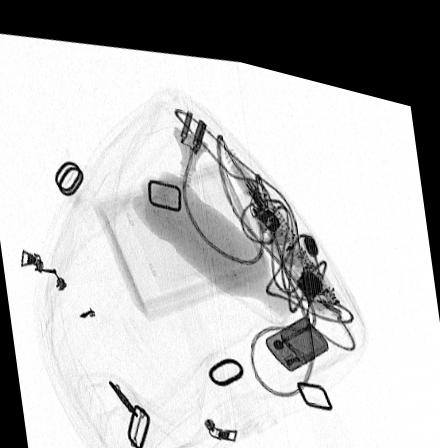Lighter: (265, 299, 329, 355)
